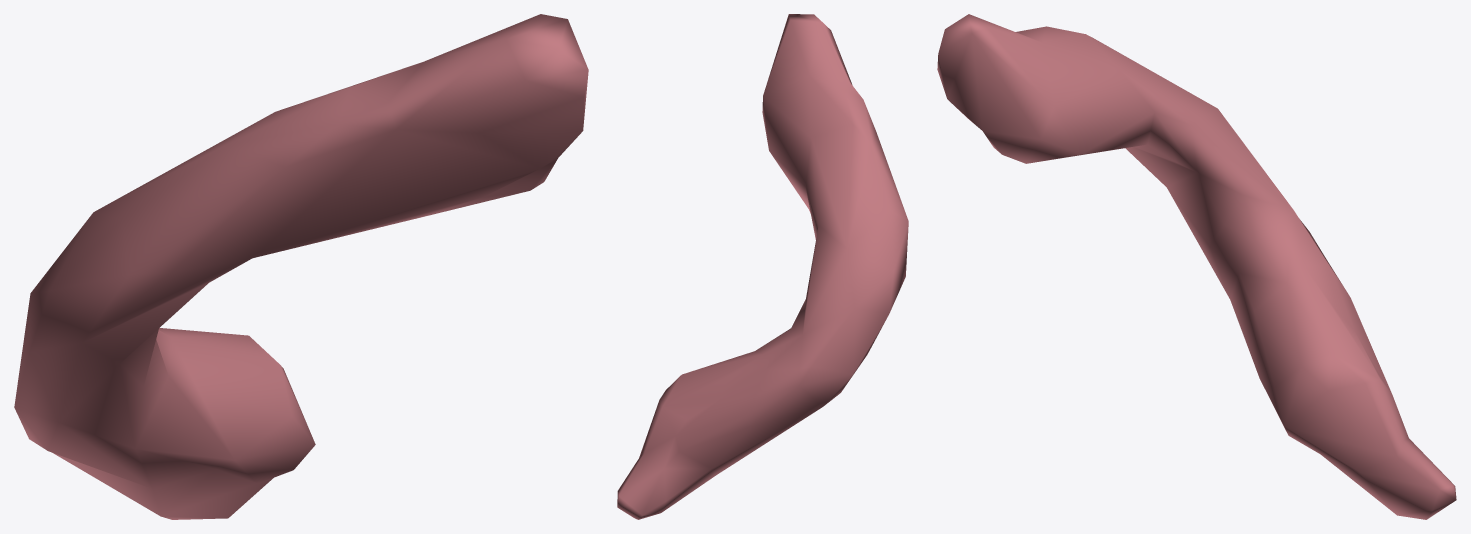
3 views of the same model, side by side, from view 1: azimuth 30°, elevation 25°; view 2: azimuth 150°, elevation 25°; view 3: azimuth 270°, elevation 25° (orthographic). The views are drawn at different scales.
Parts seen in each view (by area): view 1: 右侧肛门外括约肌; view 2: 右侧肛门外括约肌; view 3: 右侧肛门外括约肌.
Part boxes in pixels (x1,y1,x2,y2): 右侧肛门外括约肌: (14, 14, 588, 519); 右侧肛门外括约肌: (617, 14, 908, 519); 右侧肛门外括约肌: (937, 14, 1456, 519).
Size of the model in its own units: 0.0177 by 0.0336 by 0.0318.
